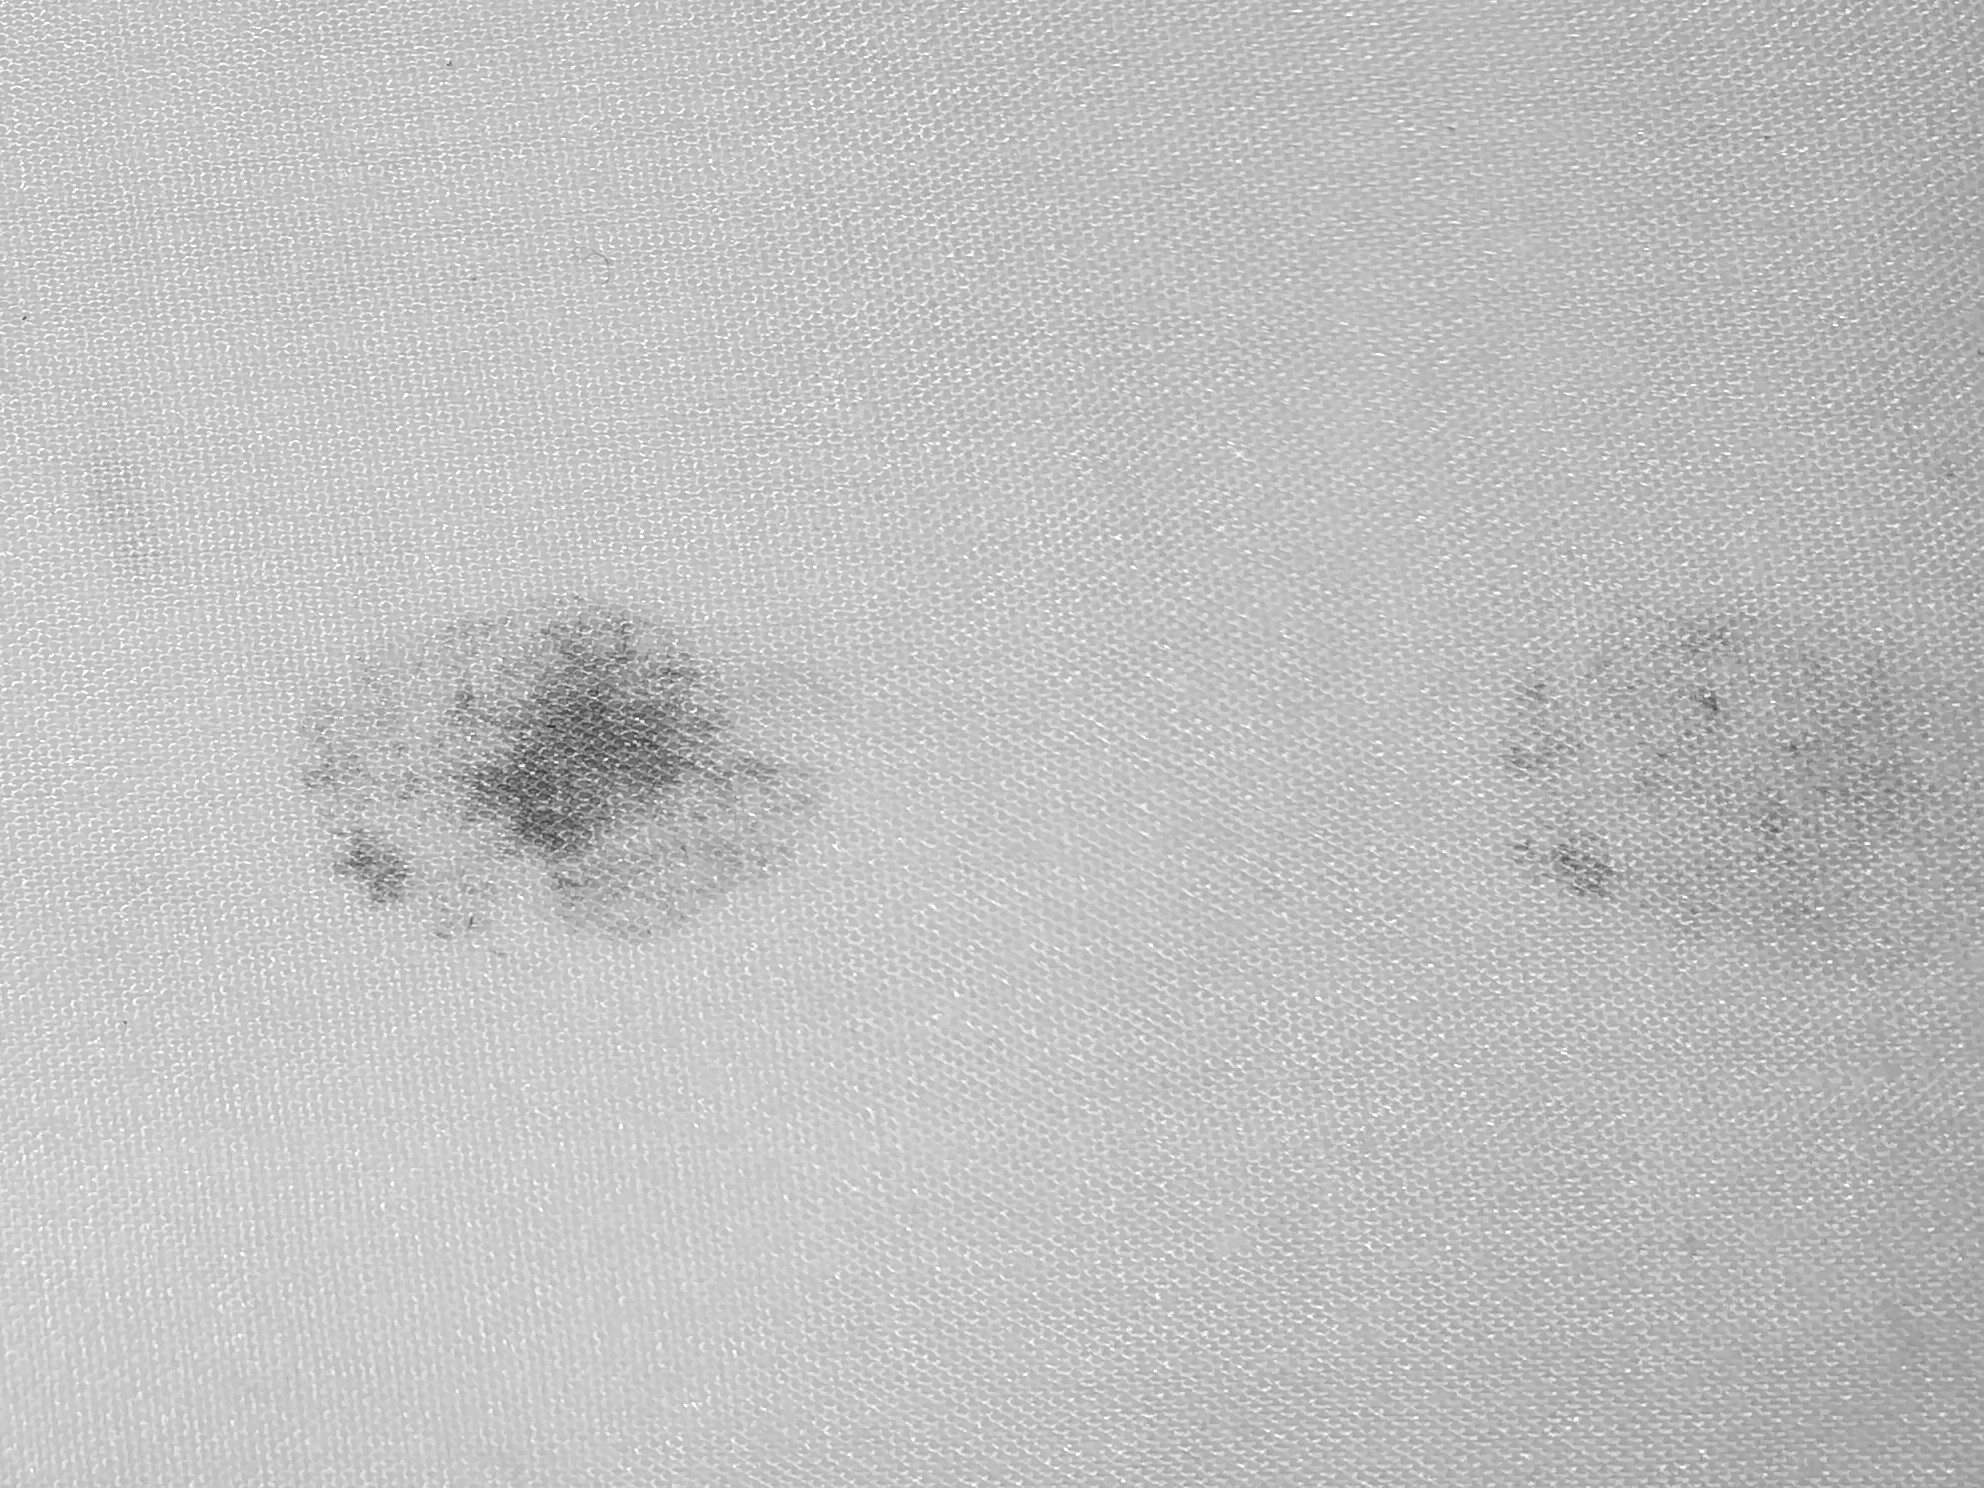Stain: (172, 485, 933, 1043), (1448, 517, 1984, 1086)
